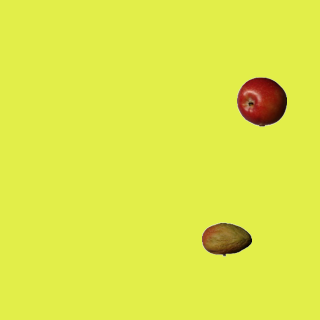Apple Braeburn: (236, 76, 286, 126)
Papaya: (201, 214, 251, 264)
